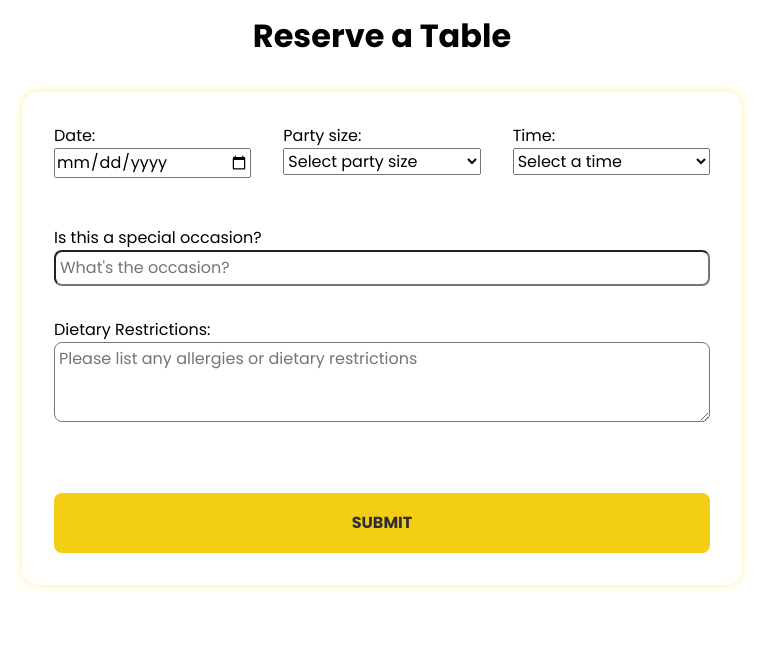
Test: Reservations › clears the 7+ error when a valid party size is selected
The image size is (765, 648).
Step 1. Select "7+" in the dropdown labelled "Party size:" → (382, 162), box [283,148,481,175]
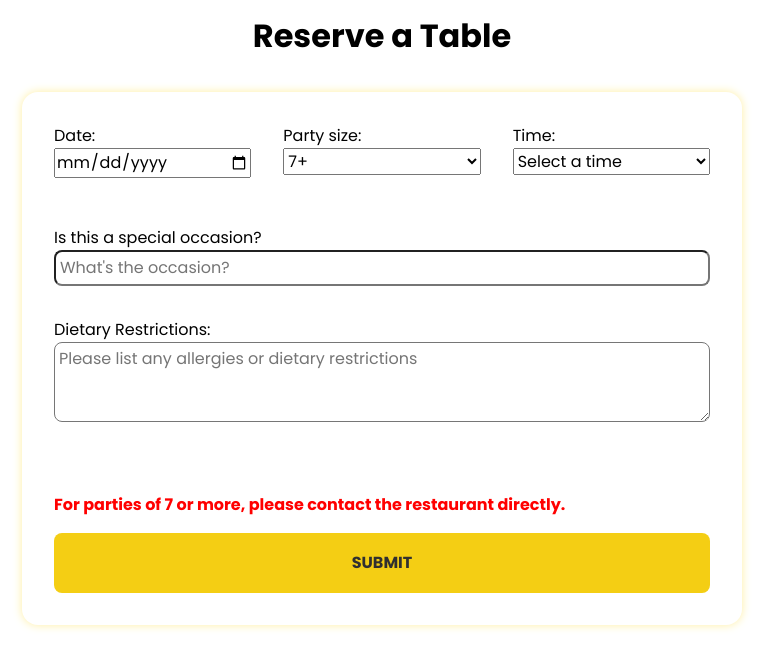
Expected: the text "For parties of 7 or more, please contact the restaurant directly." is shown, [54,493,565,516]
Step 2. Select "4" in the dropdown labelled "Party size:" → (382, 162), box [283,148,481,175]
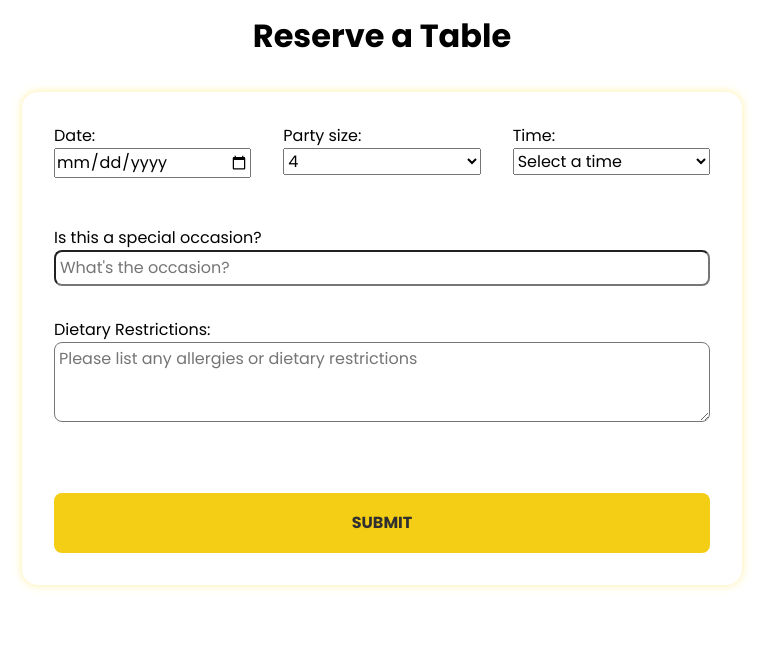
Expected: the text "For parties of 7 or more, please contact the restaurant directly." is gone
